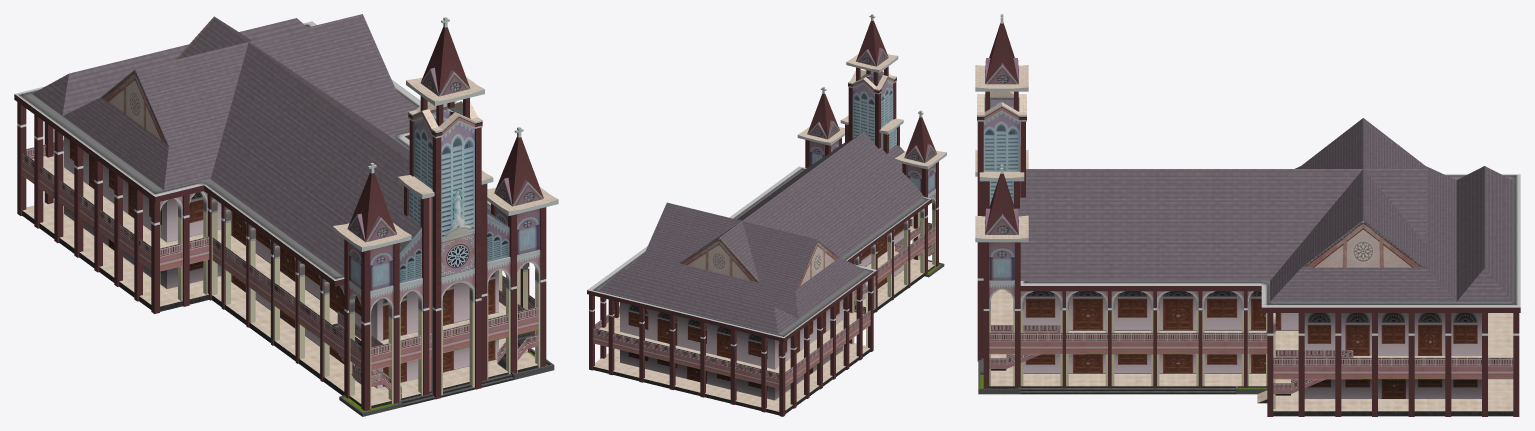
The picture shows the model from 3 angles, left to right: view 1: azimuth 30°, elevation 25°; view 2: azimuth 150°, elevation 25°; view 3: azimuth 270°, elevation 25°; orthographic projection. The views are drawn at different scales.
Visible parts, largest first — view 1: 5ccabd81026c8b690445a1ae.001; view 2: 5ccabd81026c8b690445a1ae.001; view 3: 5ccabd81026c8b690445a1ae.001.
Part boxes in pixels (x1,y1,x2,y2): 5ccabd81026c8b690445a1ae.001: [14, 14, 558, 416]; 5ccabd81026c8b690445a1ae.001: [587, 14, 946, 416]; 5ccabd81026c8b690445a1ae.001: [975, 14, 1520, 416].
Size of the model in its own units: 26.72 by 31.4 by 46.1.
1 material, 1 textured.
